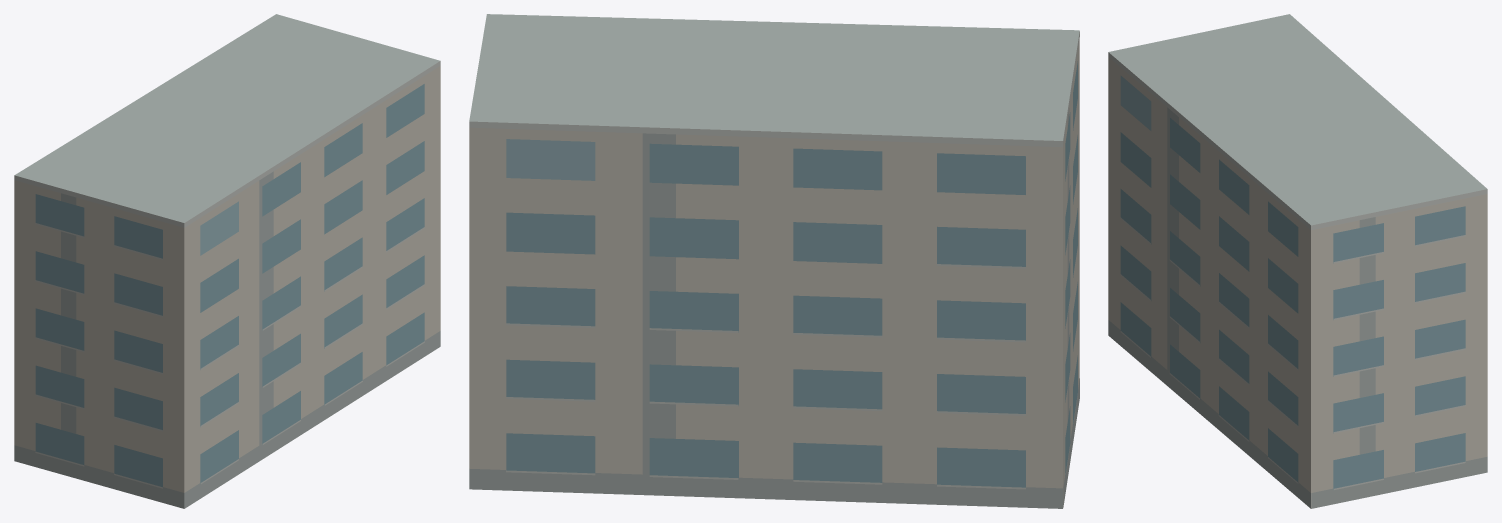
File: survey-upis-32816633.glb
3 renders of one model, left to right at view 1: azimuth 30°, elevation 25°; view 2: azimuth 150°, elevation 25°; view 3: azimuth 270°, elevation 25°, orthographic. The views are drawn at different scales.
Visible parts, largest first — view 1: survey-upis-32816633.tmp; view 2: survey-upis-32816633.tmp; view 3: survey-upis-32816633.tmp.
Part boxes in pixels (x1,y1,x2,y2): survey-upis-32816633.tmp: [14, 14, 440, 508]; survey-upis-32816633.tmp: [469, 14, 1079, 508]; survey-upis-32816633.tmp: [1108, 14, 1487, 508].
Size of the model in its own units: 23.37 by 14.6 by 17.72.
